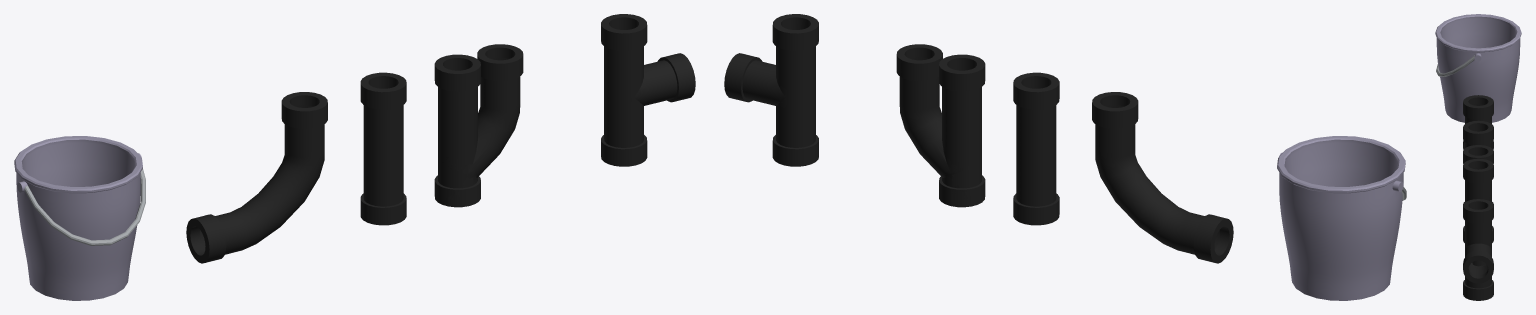
Rendered from pipes.fbx.
3 views of the same model, side by side, from view 1: azimuth 30°, elevation 25°; view 2: azimuth 150°, elevation 25°; view 3: azimuth 270°, elevation 25° (orthographic). The views are drawn at different scales.
Visible parts, largest first — view 1: pCylinder11, pCylinder5, pCylinder2, pCylinder14, pCylinder1, pCylinder8, pCylinder6; view 2: pCylinder11, pCylinder5, pCylinder2, pCylinder14, pCylinder1, pCylinder6; view 3: pCylinder11, pCylinder14, pCylinder5, pCylinder2, pCylinder1, pCylinder8.
Part boxes in pixels (bbox=[...]): pCylinder11: bbox=[14, 136, 142, 300]; pCylinder5: bbox=[434, 44, 523, 207]; pCylinder2: bbox=[186, 92, 327, 263]; pCylinder14: bbox=[601, 14, 695, 166]; pCylinder1: bbox=[360, 72, 406, 225]; pCylinder8: bbox=[24, 169, 145, 245]; pCylinder6: bbox=[434, 152, 467, 205]; pCylinder11: bbox=[1277, 136, 1405, 300]; pCylinder5: bbox=[896, 44, 985, 207]; pCylinder2: bbox=[1092, 92, 1233, 263]; pCylinder14: bbox=[724, 14, 818, 166]; pCylinder1: bbox=[1013, 72, 1059, 225]; pCylinder6: bbox=[950, 155, 985, 206]; pCylinder11: bbox=[1435, 14, 1521, 122]; pCylinder14: bbox=[1463, 199, 1493, 300]; pCylinder5: bbox=[1463, 145, 1493, 242]; pCylinder2: bbox=[1463, 95, 1493, 149]; pCylinder1: bbox=[1463, 120, 1493, 204]; pCylinder8: bbox=[1436, 55, 1474, 76].
Size of the model in its own units: 12.28 by 2.37 by 2.07.
